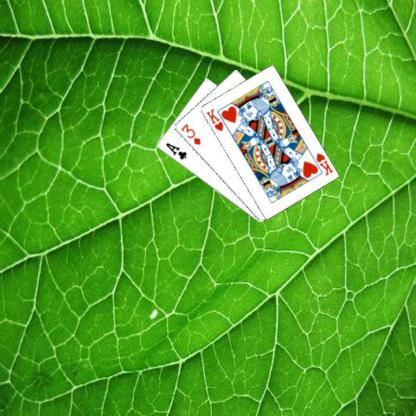3D: (178, 122, 202, 146)
AC: (163, 140, 188, 160)
KH: (313, 150, 334, 177), (203, 106, 224, 132)
